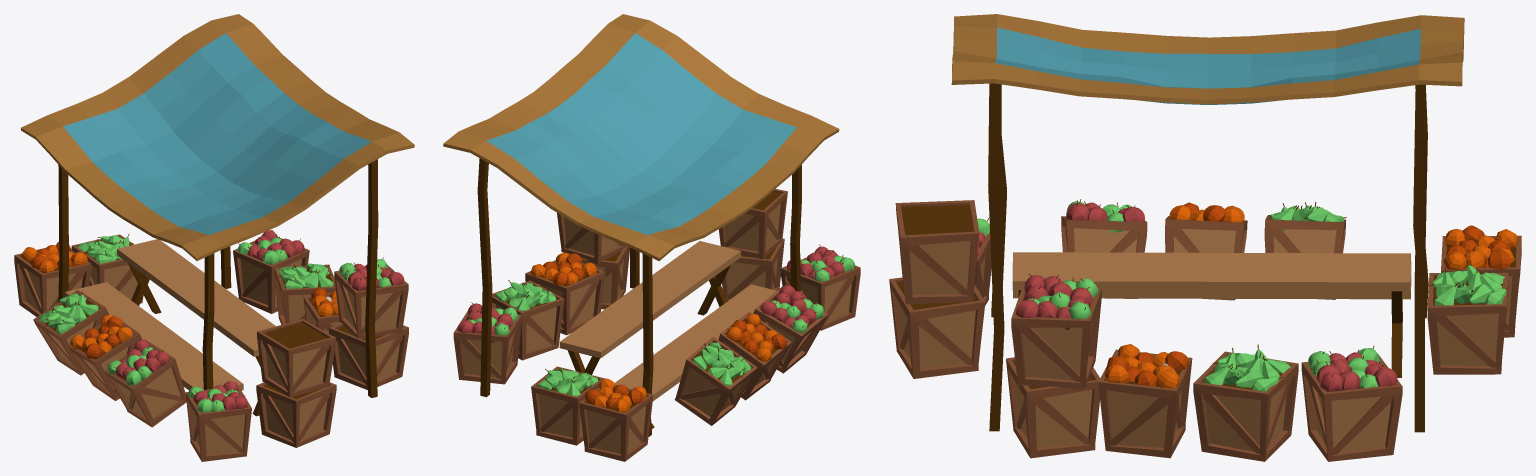
The model's file is Store 3.glb.
The picture shows the model from 3 angles, left to right: view 1: azimuth 30°, elevation 25°; view 2: azimuth 150°, elevation 25°; view 3: azimuth 270°, elevation 25°; orthographic projection. The views are drawn at different scales.
Visible parts, largest first — view 1: stall1.002; view 2: stall1.002; view 3: stall1.002.
Boxes of the visible parts, x1,y1,x2,y2 form: stall1.002: [14, 14, 414, 461]; stall1.002: [443, 14, 860, 461]; stall1.002: [889, 14, 1521, 461].
Bounding box in the file's own units: 5.18 × 4.77 × 7.3.
